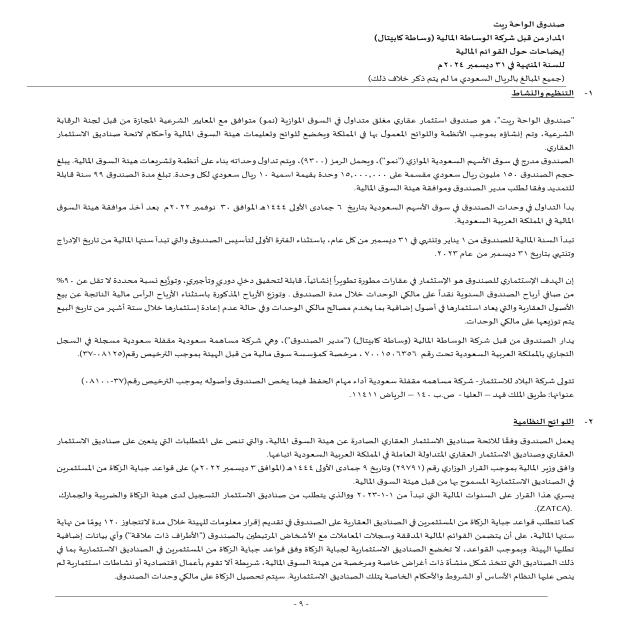notes: (436, 46, 572, 60)
text: (28, 85, 590, 586)
